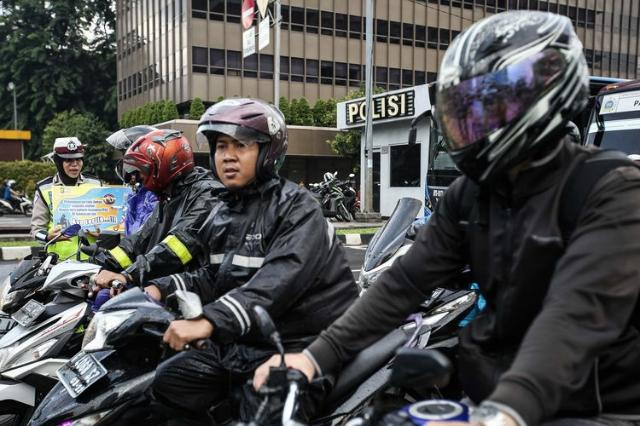helm: (434, 11, 593, 190), (198, 98, 292, 197), (111, 124, 199, 202)
motor: (29, 280, 326, 426), (1, 248, 105, 426)
